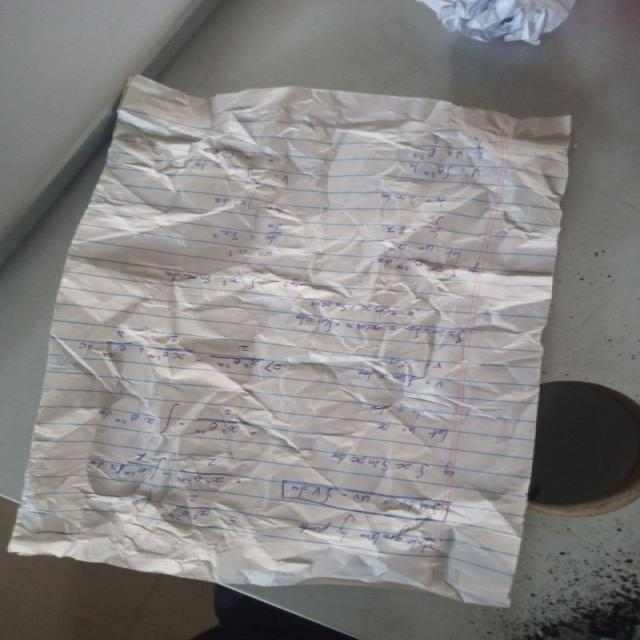Paper: (8, 77, 572, 608)
